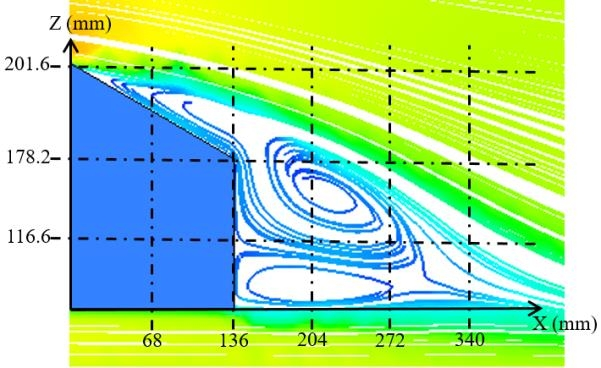vortox: (237, 127, 427, 253), (235, 247, 396, 306)
